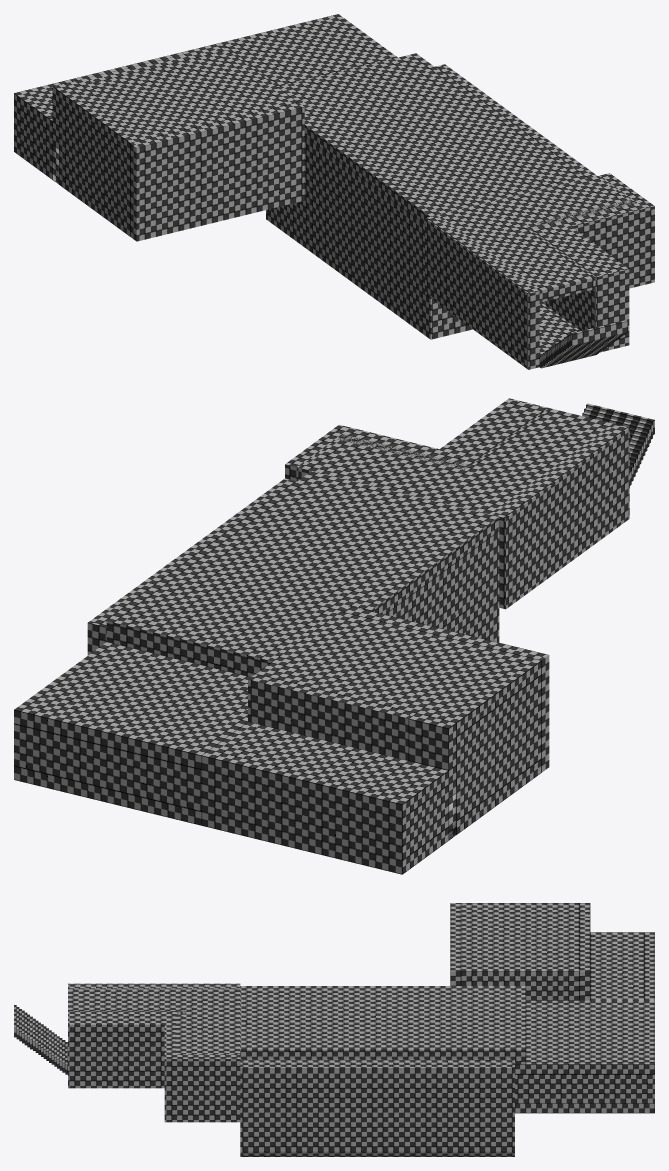
3 renders of one model, top to bottom at view 1: azimuth 30°, elevation 25°; view 2: azimuth 150°, elevation 25°; view 3: azimuth 270°, elevation 25°, orthographic. The views are drawn at different scales.
Visible parts, largest first — view 1: Cube-col.017, Cube.001, Cube-col.005, Cube-col.016, Cube-col.006, Cube-col.020, Cube-col.010, Cube-col.007, Cube-col.021, Cube-col.009, Cube-col.003, Cube-col.008 (+2 smaller); view 2: Cube-col.017, Cube-col.010, Cube.001, Cube-col.006, Cube-col.003, Cube-col.020, Cube-col.005, Cube-col.016, Cube-col.008, Cube-col.011, Cube-col.007, Cube-col.001 (+3 smaller); view 3: Cube-col.016, Cube-col.017, Cube.001, Cube-col.010, Cube-col.006, Cube-col.020, Cube-col.011, Cube-col.008, Cube-col.005, Cube-col.021, Cube-col.007, Cube-col.003.
Boxes of the visible parts, x1,y1,x2,y2 form: Cube-col.017: (278, 53, 586, 223); Cube.001: (425, 173, 654, 369); Cube-col.005: (86, 45, 304, 241); Cube-col.016: (266, 64, 596, 339); Cube-col.006: (59, 50, 297, 154); Cube-col.020: (436, 176, 636, 355); Cube-col.010: (182, 14, 397, 86); Cube-col.007: (59, 103, 130, 235); Cube-col.021: (539, 320, 627, 368); Cube-col.009: (20, 110, 52, 167); Cube-col.003: (14, 52, 184, 155); Cube-col.008: (20, 90, 52, 132); Cube-col.017: (106, 471, 499, 676); Cube-col.010: (14, 642, 250, 825); Cube.001: (285, 398, 629, 609); Cube-col.006: (256, 612, 541, 736); Cube-col.003: (201, 750, 410, 874); Cube-col.020: (298, 408, 615, 514); Cube-col.005: (248, 606, 549, 772); Cube-col.016: (87, 478, 499, 655); Cube-col.008: (209, 721, 448, 812); Cube-col.011: (14, 724, 201, 811); Cube-col.007: (456, 675, 541, 833); Cube-col.001: (408, 713, 456, 798); Cube-col.016: (240, 1059, 514, 1156); Cube-col.017: (240, 986, 525, 1064); Cube.001: (68, 983, 240, 1122); Cube-col.010: (515, 1000, 654, 1113); Cube-col.006: (461, 903, 579, 981); Cube-col.020: (68, 988, 240, 1054); Cube-col.011: (515, 1074, 654, 1103); Cube-col.008: (590, 932, 644, 1000); Cube-col.005: (450, 903, 590, 1000); Cube-col.021: (14, 1005, 67, 1074); Cube-col.007: (461, 981, 579, 1000); Cube-col.003: (644, 932, 654, 1000).
Size of the model in its own units: 6200 by 2400 by 11900.
